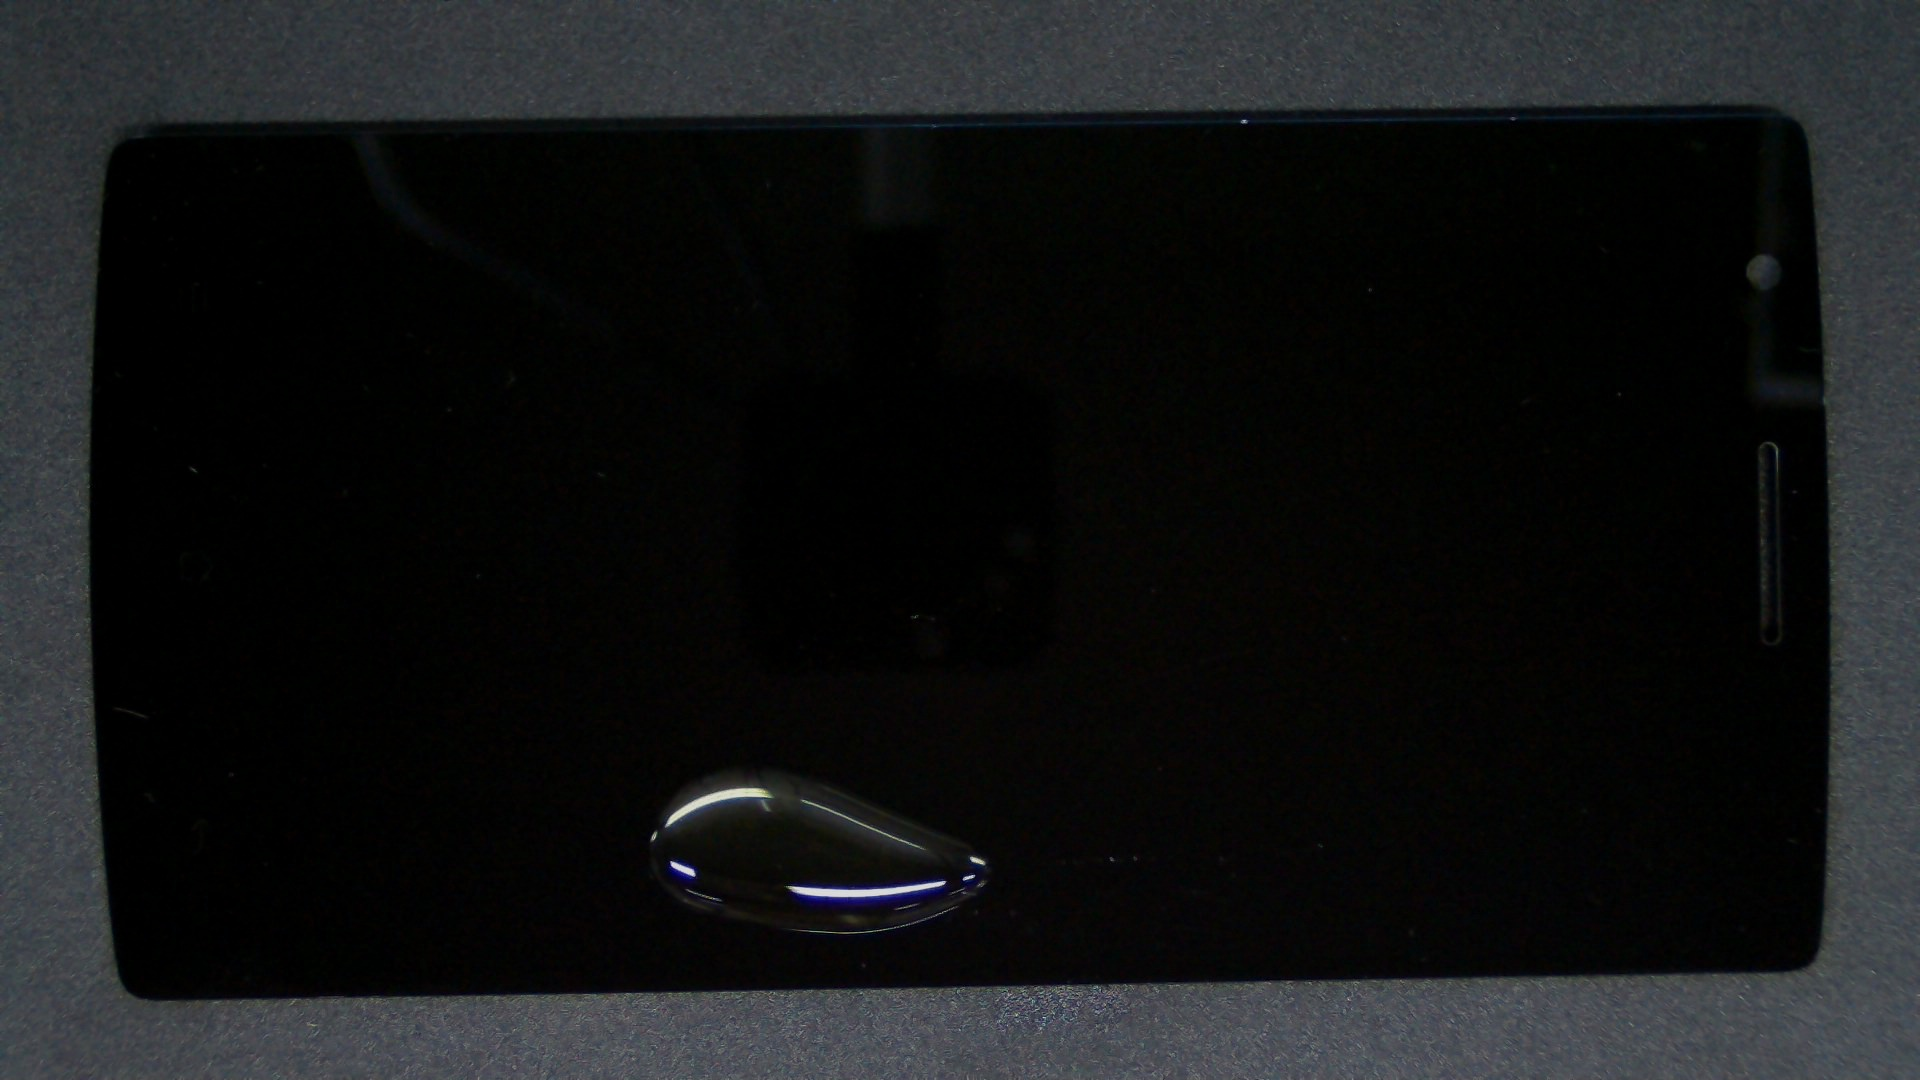oil: (371, 382, 1108, 1080)
